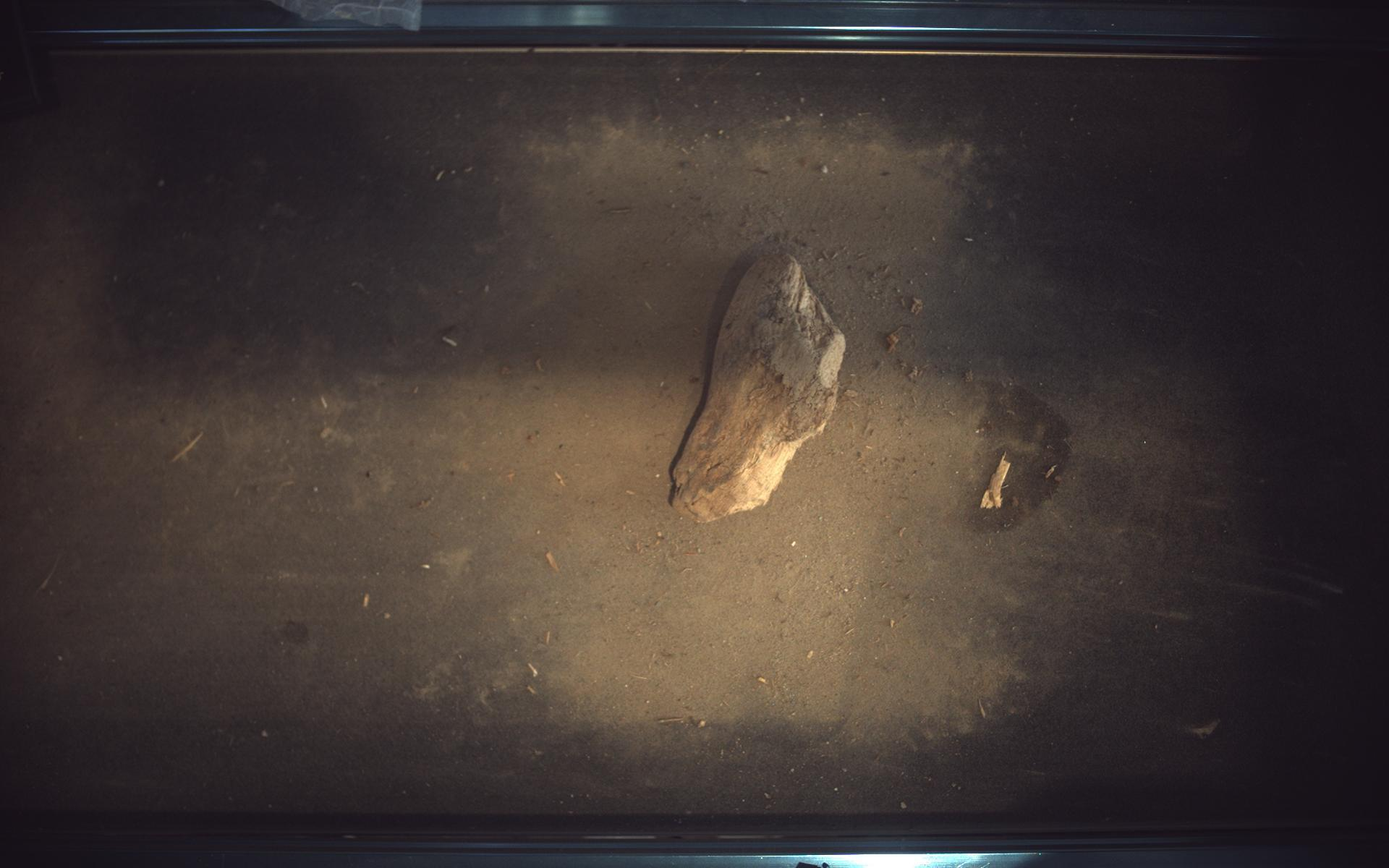wood: (672, 253, 846, 523)
